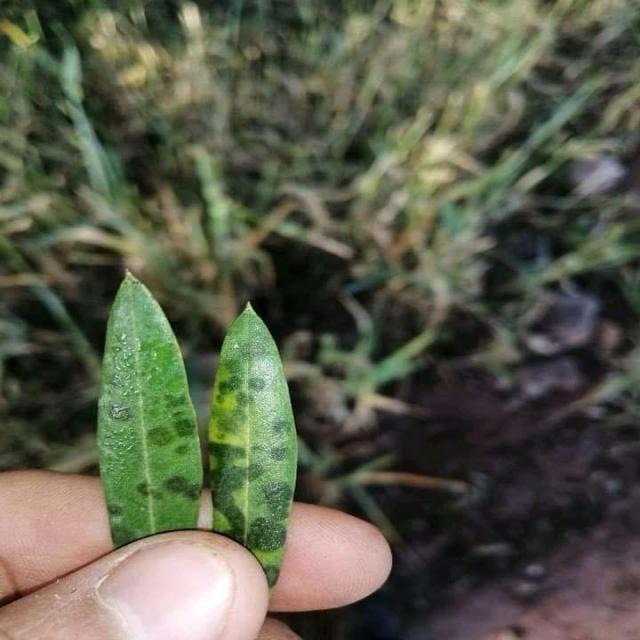Peacock Eye: (98, 273, 203, 549), (208, 303, 297, 587)
